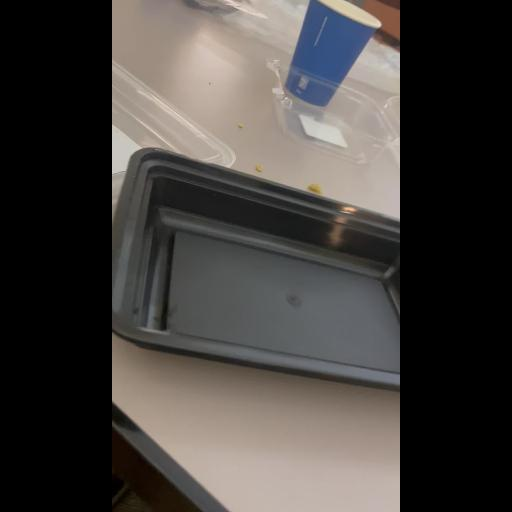rigid_plastic_container: (112, 140, 400, 398)
